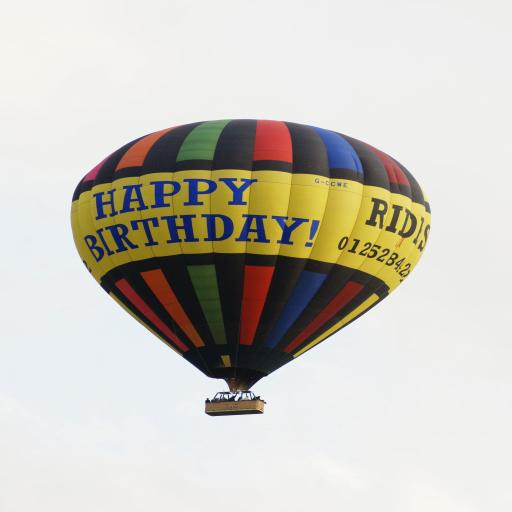hot air ballon: (60, 112, 440, 419)
